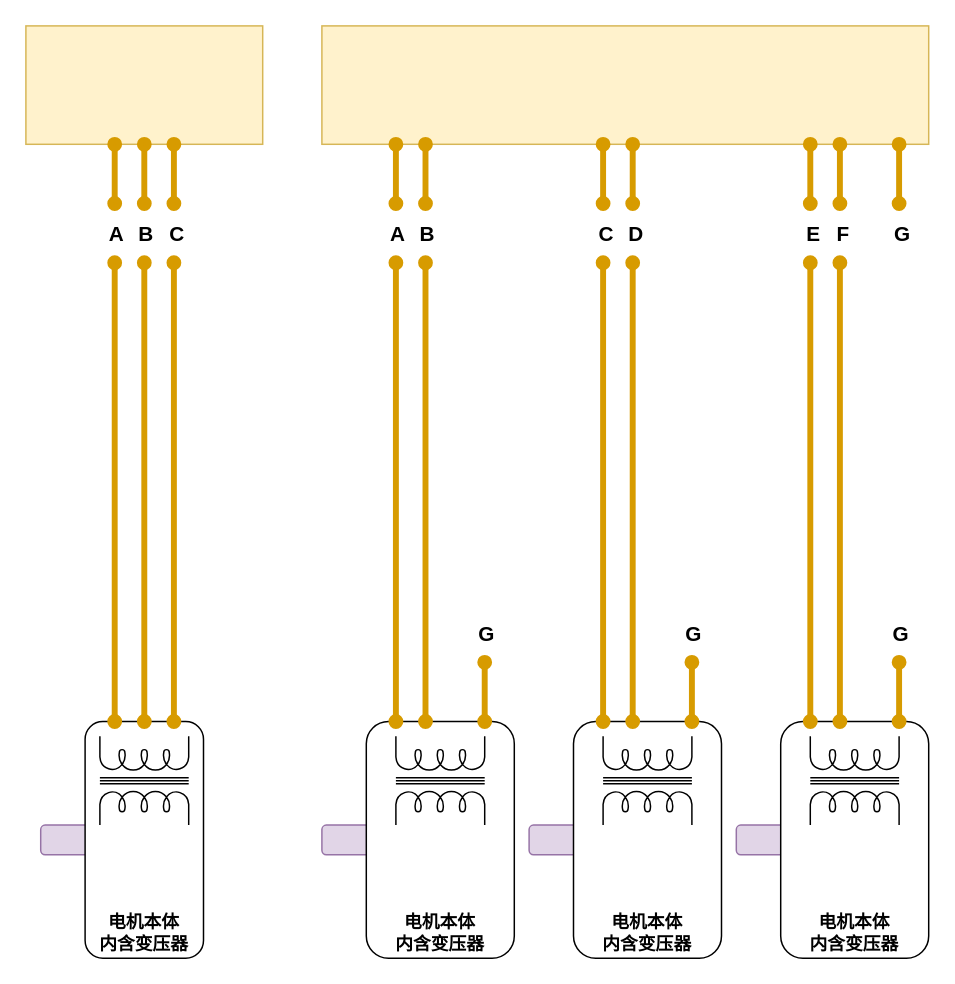
Some shapes in this 955 by 984 pixel diagram are drawn without their labels. The shapes that lost their labels are listed below. From the top down, each one's centre as x and y in pixels, then its label:
the point at 143,84: 三根输出线 线径0.75平方毫米 耐高温， 绝缘耐压1000V
the point at 624,84: 七根输出线 线径0.75平方毫米 耐高温， 绝缘耐压1000V
